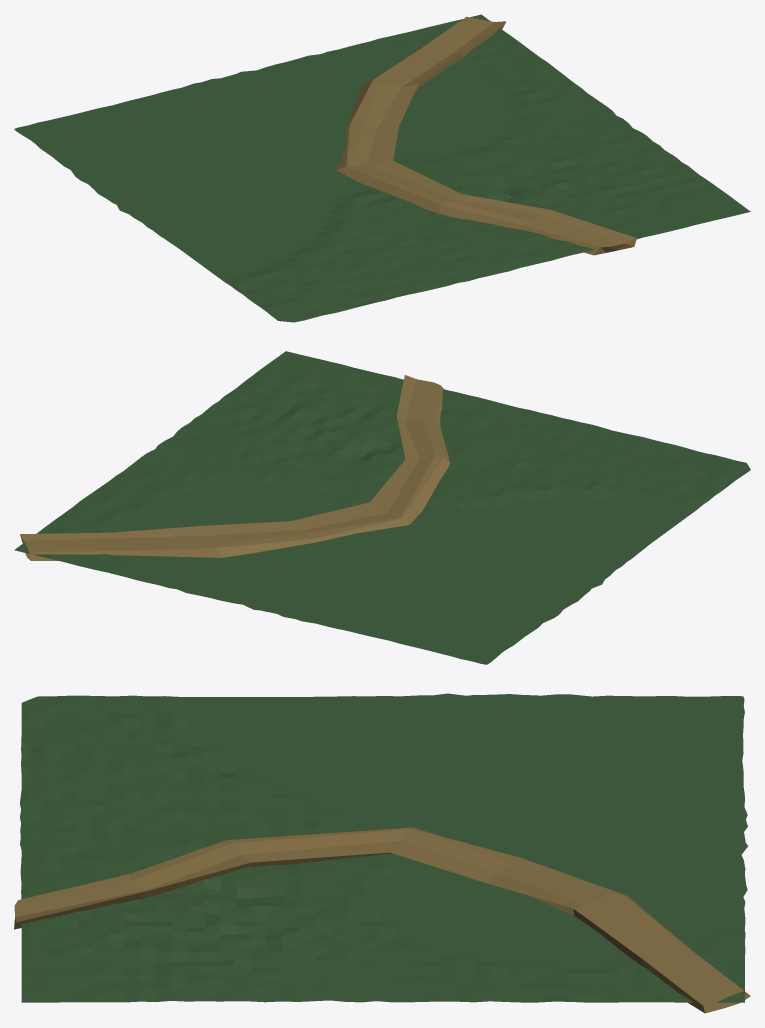
File: athili_copse_section5.glb
3 renders of one model, top to bottom at view 1: azimuth 30°, elevation 25°; view 2: azimuth 150°, elevation 25°; view 3: azimuth 270°, elevation 25°, orthographic. The views are drawn at different scales.
Visible parts, largest first — view 1: Grass, Road; view 2: Grass, Road; view 3: Grass, Road.
Boxes of the visible parts, x1,y1,x2,y2 form: Grass: [14, 14, 750, 322]; Road: [336, 16, 636, 255]; Grass: [14, 351, 750, 664]; Road: [20, 375, 449, 560]; Grass: [20, 693, 747, 1002]; Road: [14, 826, 750, 1013].
Size of the model in its own units: 61.04 by 1.76 by 60.29.
